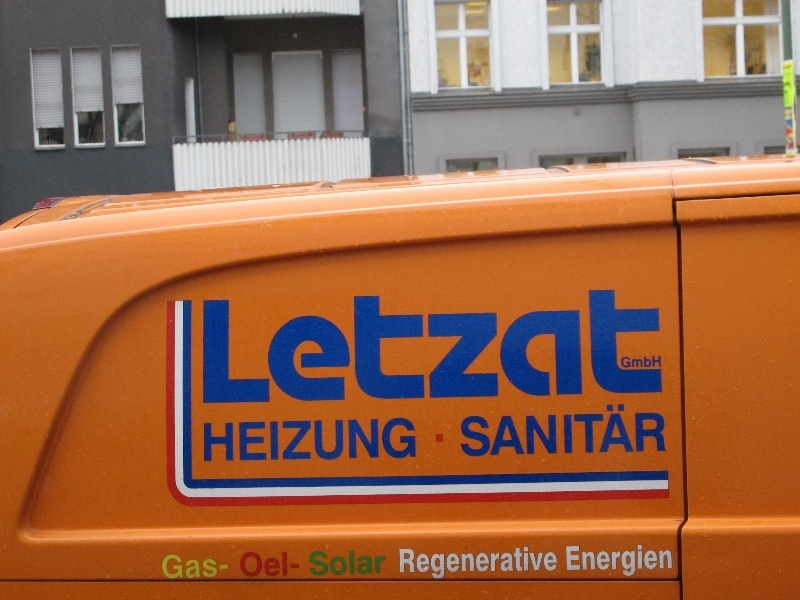text: (209, 290, 224, 404), (225, 290, 240, 404), (241, 290, 256, 404), (257, 290, 272, 404), (273, 290, 288, 404), (289, 290, 304, 404), (305, 290, 320, 404), (321, 290, 336, 404), (337, 290, 352, 404), (353, 290, 368, 404), (369, 290, 384, 404), (385, 290, 400, 404), (401, 290, 416, 404), (417, 290, 432, 404), (433, 290, 448, 404), (449, 290, 464, 404), (465, 290, 480, 404), (481, 290, 496, 404), (497, 290, 512, 404), (513, 290, 528, 404), (529, 290, 544, 404), (545, 290, 560, 404), (561, 290, 576, 404), (577, 290, 592, 404), (593, 290, 608, 404), (609, 290, 624, 404), (625, 290, 640, 404), (641, 290, 656, 404), (465, 404, 480, 458), (481, 404, 496, 458), (497, 404, 512, 458), (513, 404, 528, 458), (529, 404, 544, 458), (545, 404, 560, 458), (561, 404, 576, 458), (577, 404, 592, 458), (593, 404, 608, 458), (609, 404, 624, 458), (625, 404, 640, 458), (641, 404, 656, 458), (657, 290, 663, 404), (209, 419, 224, 462), (225, 419, 240, 462), (241, 419, 256, 462), (257, 419, 272, 462), (273, 419, 288, 462), (289, 419, 304, 462), (305, 419, 320, 462), (321, 419, 336, 462), (337, 419, 352, 462), (353, 419, 368, 462), (369, 419, 384, 462), (385, 419, 400, 462), (401, 419, 415, 462), (657, 404, 666, 458), (401, 547, 416, 579), (417, 547, 432, 579), (433, 547, 448, 579), (449, 547, 464, 579), (465, 547, 480, 579), (481, 547, 496, 579), (497, 547, 512, 579), (513, 547, 528, 579), (529, 547, 544, 579), (577, 545, 592, 577), (593, 545, 608, 577), (609, 545, 624, 577), (625, 545, 640, 577), (641, 545, 656, 577), (657, 545, 672, 577), (204, 290, 208, 404), (369, 551, 385, 576), (177, 554, 192, 580), (193, 554, 208, 580), (209, 554, 224, 580), (545, 547, 557, 579), (241, 552, 256, 577), (257, 552, 272, 577), (273, 552, 288, 577), (321, 551, 336, 576), (337, 551, 352, 576), (353, 551, 368, 576), (163, 554, 176, 580), (567, 545, 576, 577), (289, 552, 300, 577), (311, 551, 320, 576), (625, 356, 640, 368), (641, 356, 656, 368), (204, 419, 208, 462), (462, 404, 464, 458), (225, 554, 228, 580), (657, 356, 661, 368), (622, 356, 624, 368)
